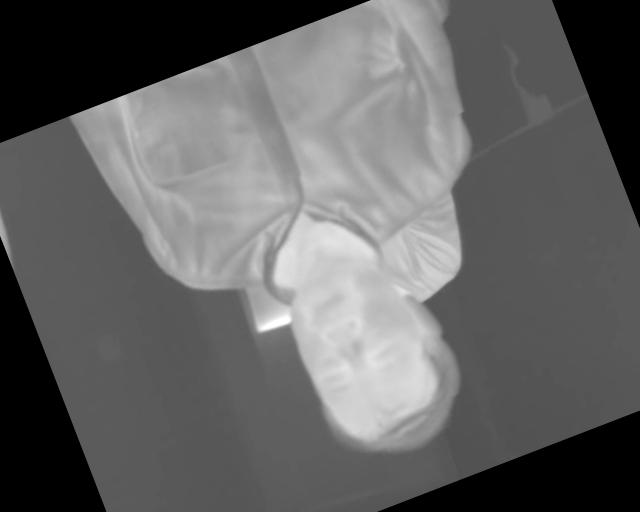face: (272, 234, 483, 480)
